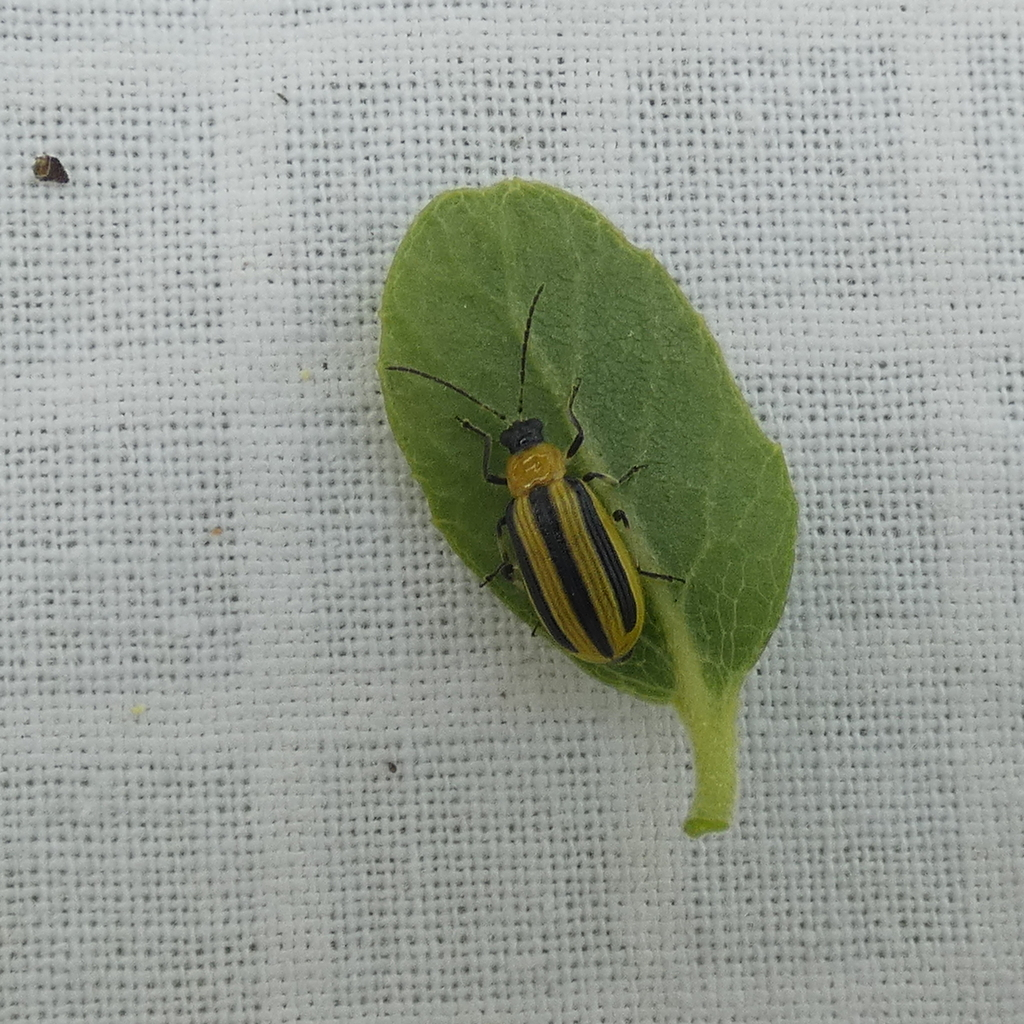potato_beetle: (259, 219, 814, 819)
